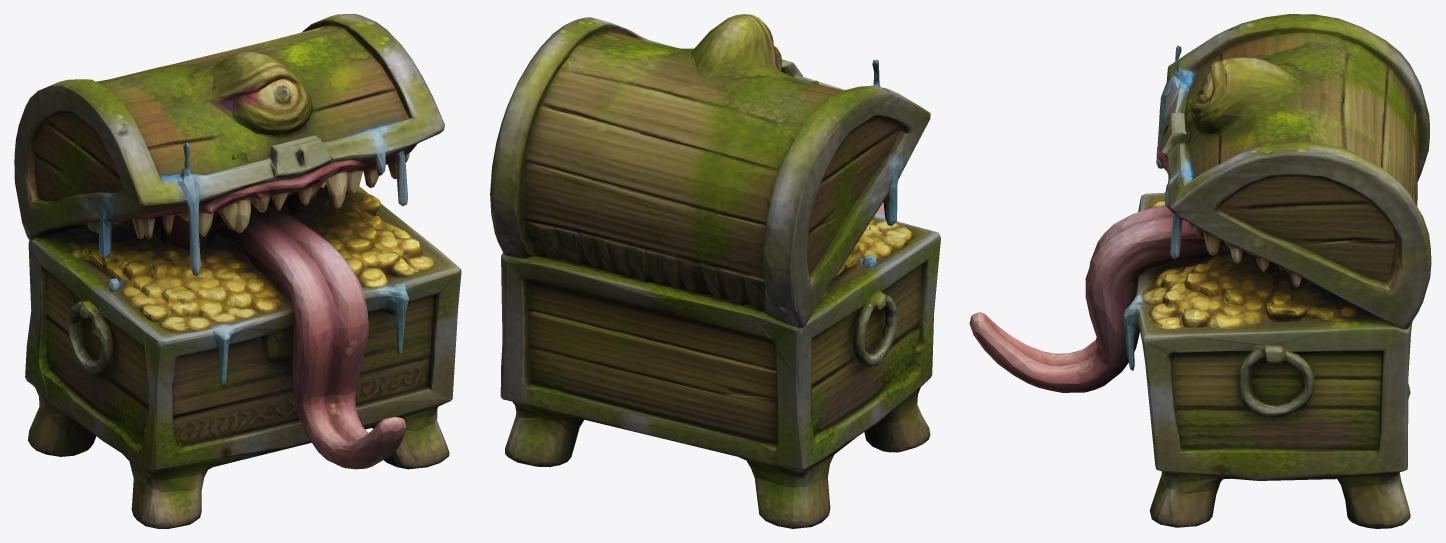
File: drippingMimic.glb
3 views of the same model, side by side, from view 1: azimuth 30°, elevation 25°; view 2: azimuth 150°, elevation 25°; view 3: azimuth 270°, elevation 25° (orthographic). The views are drawn at different scales.
Visible parts, largest first — view 1: world; view 2: world; view 3: world.
Boxes of the visible parts, x1,y1,x2,y2 form: world: (14,14,461,528); world: (490,14,940,528); world: (969,14,1431,528).
Bounding box in the file's own units: 0.5297 × 0.6448 × 0.6769.
1 material, 1 textured.
